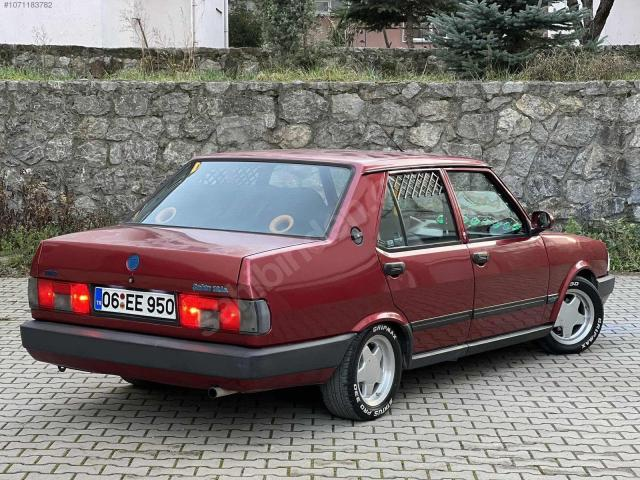plaka: (95, 287, 176, 320)
